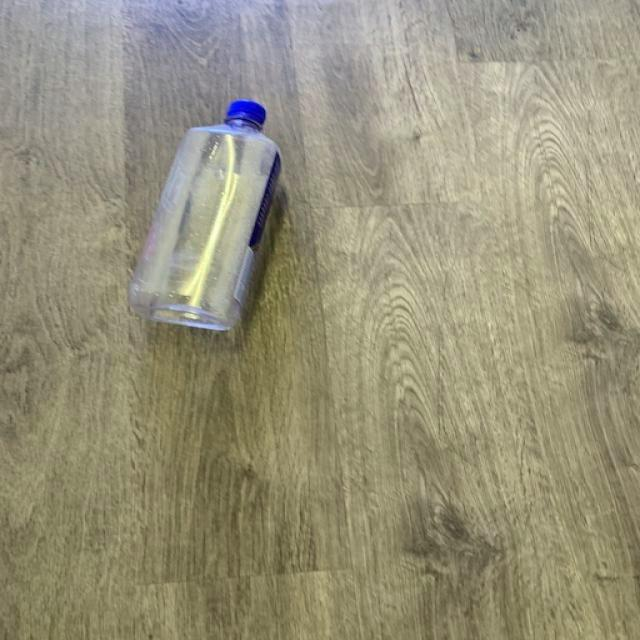bottle: (128, 99, 284, 330)
